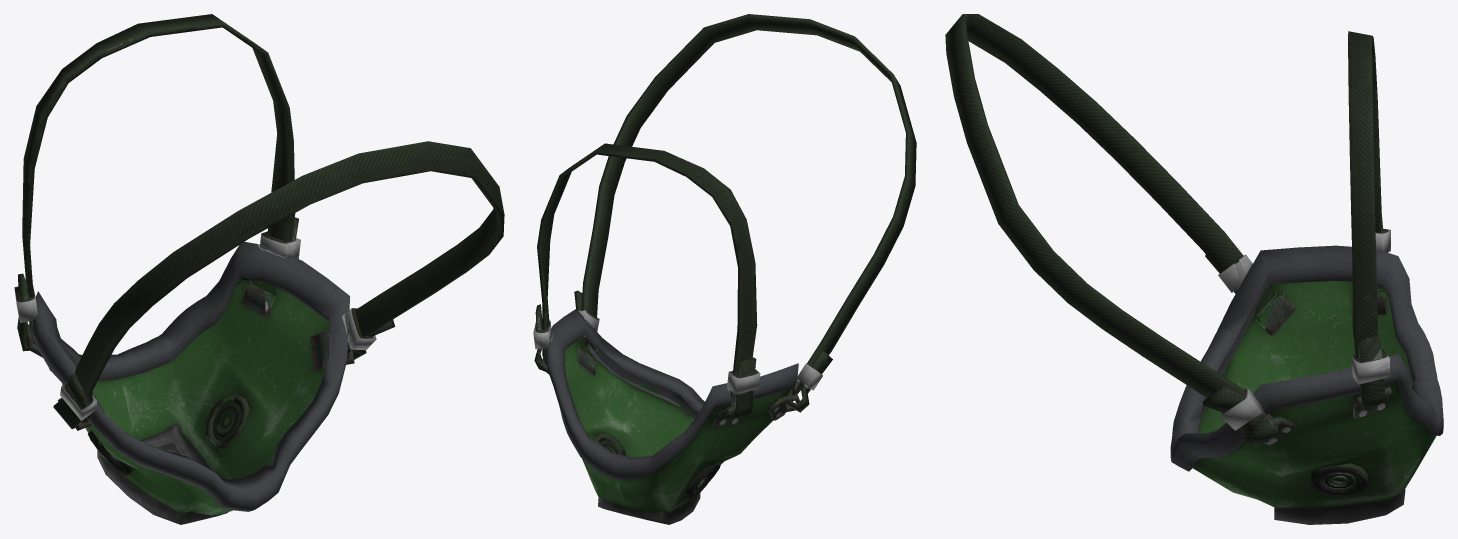
File: maskgas1.fbx
3 renders of one model, left to right at view 1: azimuth 30°, elevation 25°; view 2: azimuth 150°, elevation 25°; view 3: azimuth 270°, elevation 25°, orthographic. The views are drawn at different scales.
Parts seen in each view (by area): view 1: BezierCurve.002; view 2: BezierCurve.002; view 3: BezierCurve.002.
Part boxes in pixels (x1,y1,x2,y2): BezierCurve.002: [14, 14, 504, 524]; BezierCurve.002: [533, 14, 916, 524]; BezierCurve.002: [945, 14, 1443, 524].
Size of the model in its own units: 301 by 380 by 362.
